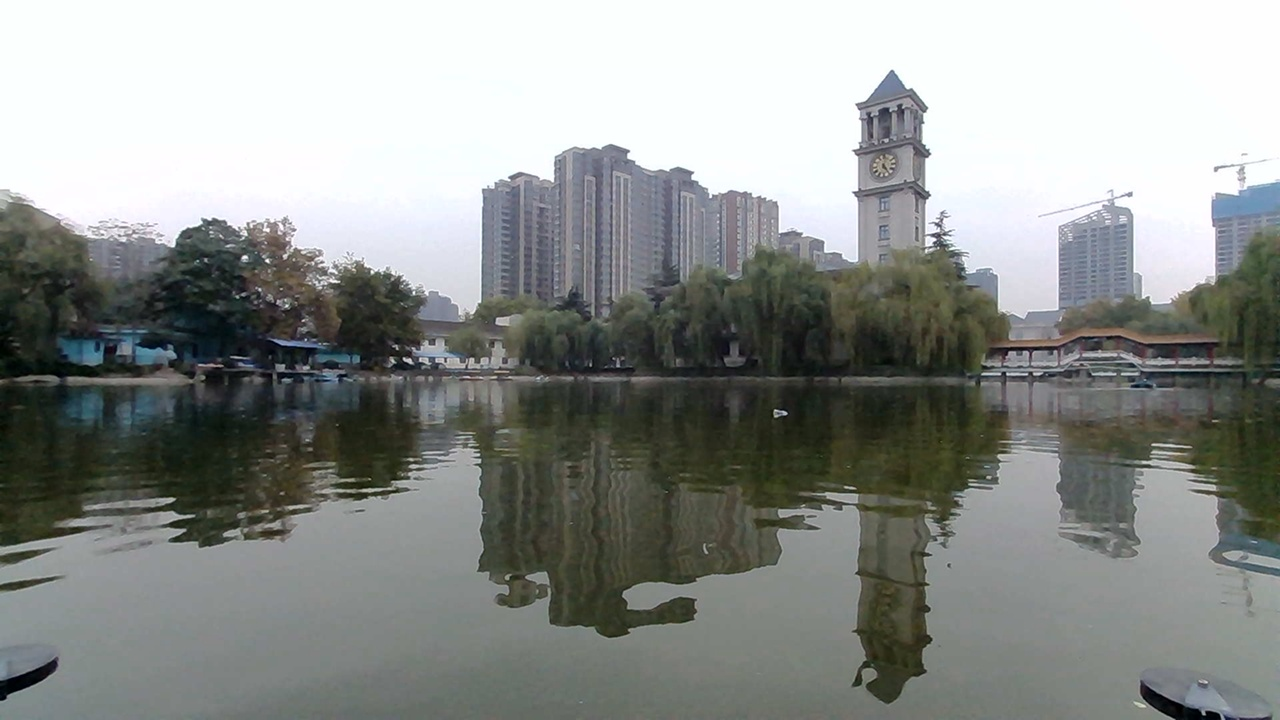bottle: (748, 392, 787, 422)
